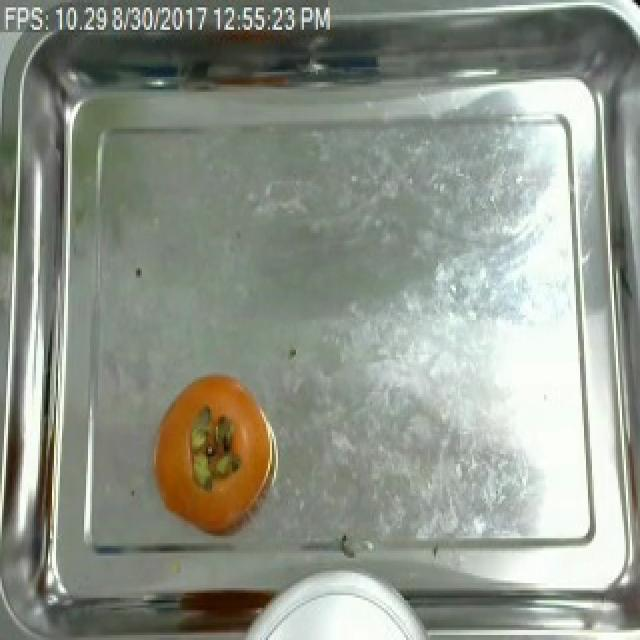Fruit: (146, 367, 280, 533)
